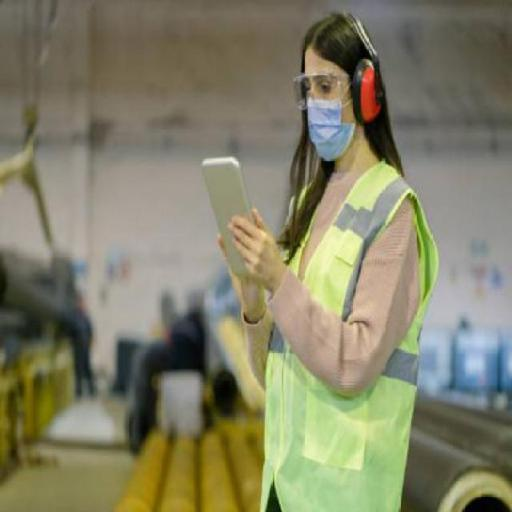glass: (290, 66, 346, 112)
person: (198, 5, 454, 511)
vest: (252, 162, 446, 512)
